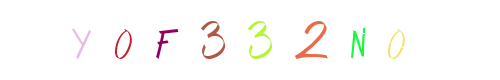2: (243, 0, 323, 80)
3: (209, 0, 289, 80), (219, 0, 299, 80)
F: (143, 0, 223, 80)
N: (309, 0, 389, 80)
O: (137, 0, 217, 80), (318, 0, 398, 80)
Y: (124, 0, 204, 80)
